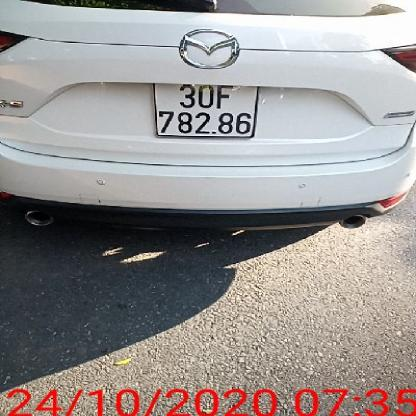biensoxe: (150, 71, 262, 150)
